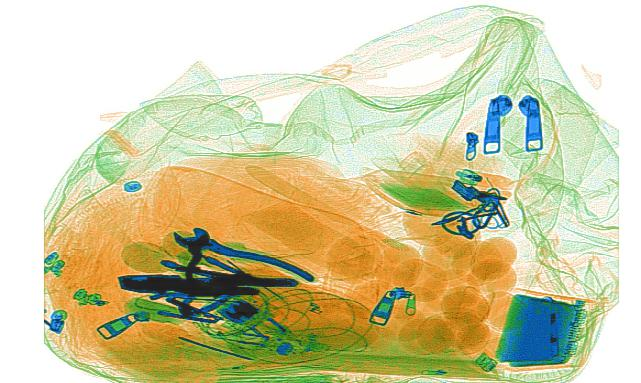lighter: (452, 166, 516, 191)
